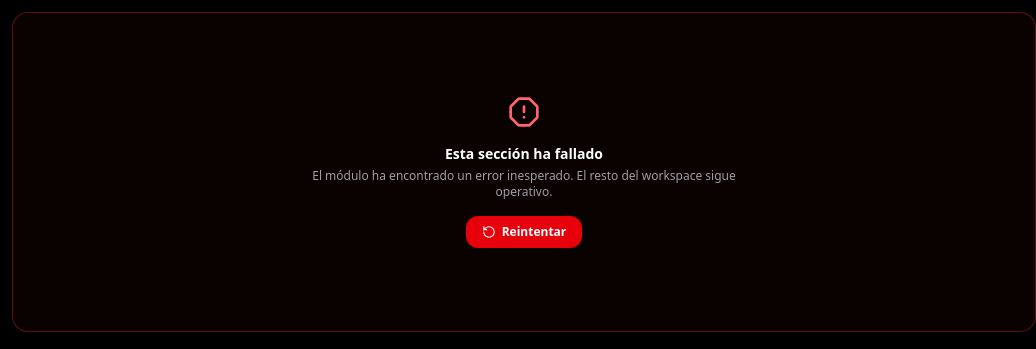
Scenario: ErrorBoundary › remounts the children when the visitor retries
This screenshot has width=1036, height=349.
What coordinates should you click on to do the following:
click the button "Reintentar"
I would click on:
 (524, 232)
Its box is [466, 216, 582, 248].
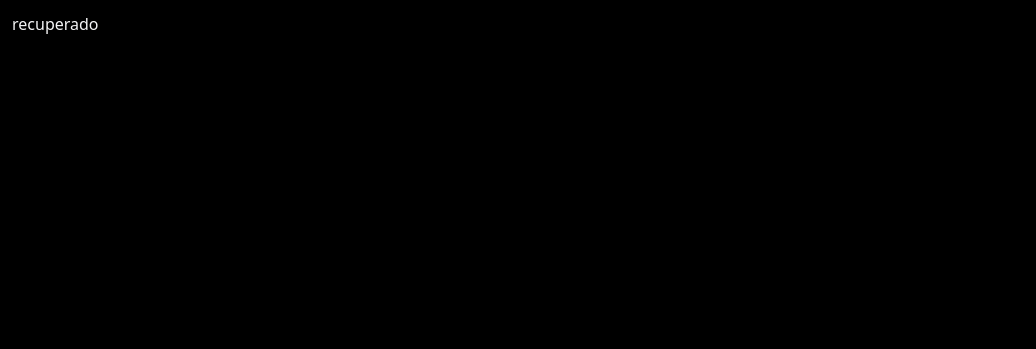
Expected: the text "recuperado" is shown, [12, 13, 98, 35]
Expected: the message is gone
